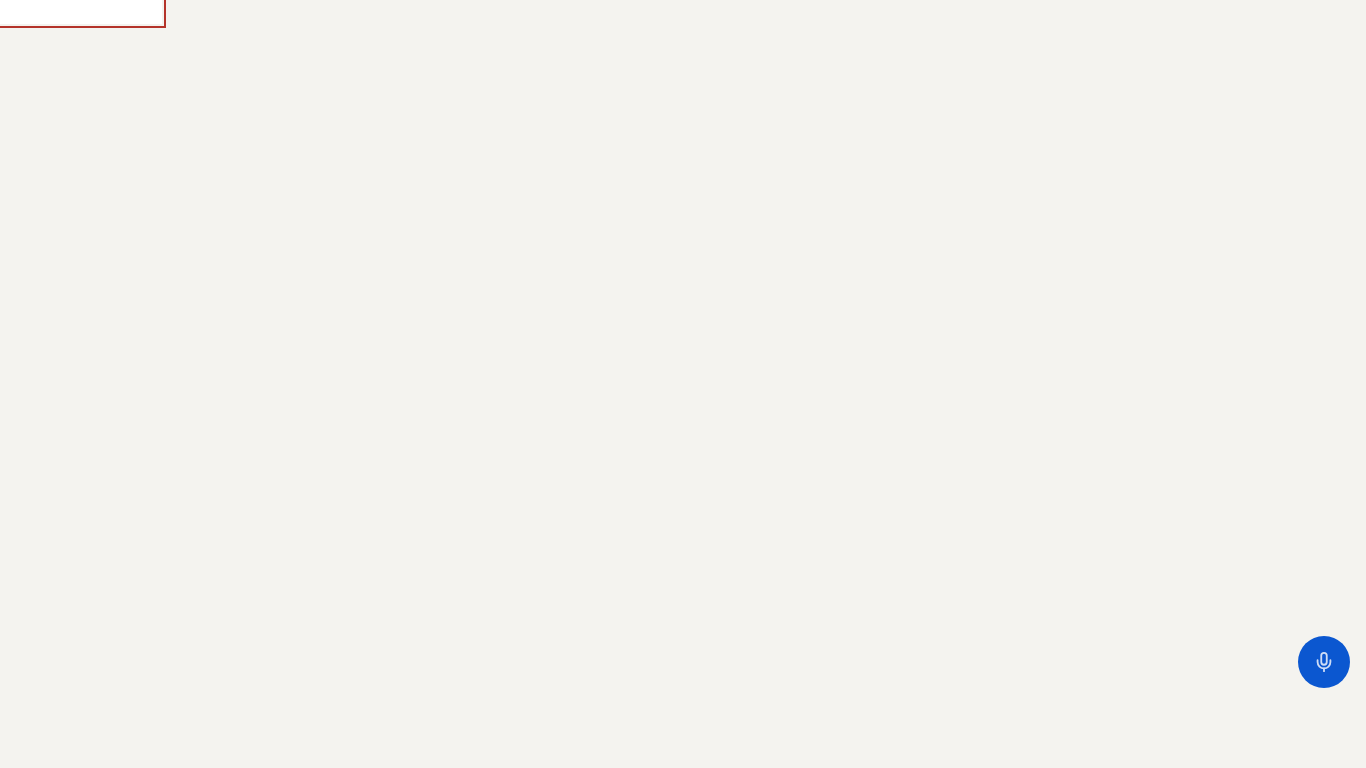
Test: 郵便番号の住所検索 › 確定すると「住所を調べています」を出し、待ちの間は主ボタンを置かない
The width and height of the screenshot is (1366, 768).
Click the button named "音声入力を開始": (1324, 662) left=1298, top=636, right=1350, bottom=688
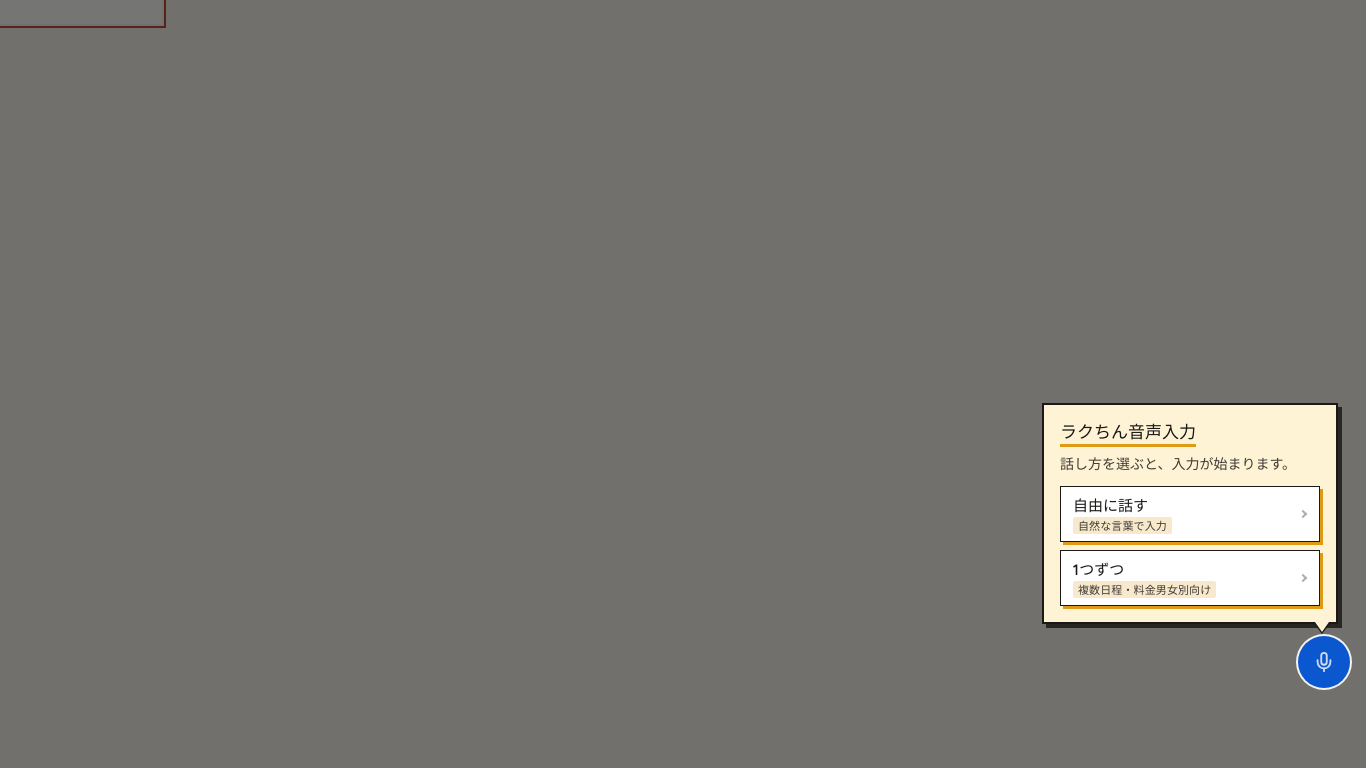
Click the button "1つずつ 複数日程・料金男女別向け": (1099, 569) left=1060, top=550, right=1320, bottom=606
Wait 1550 ms
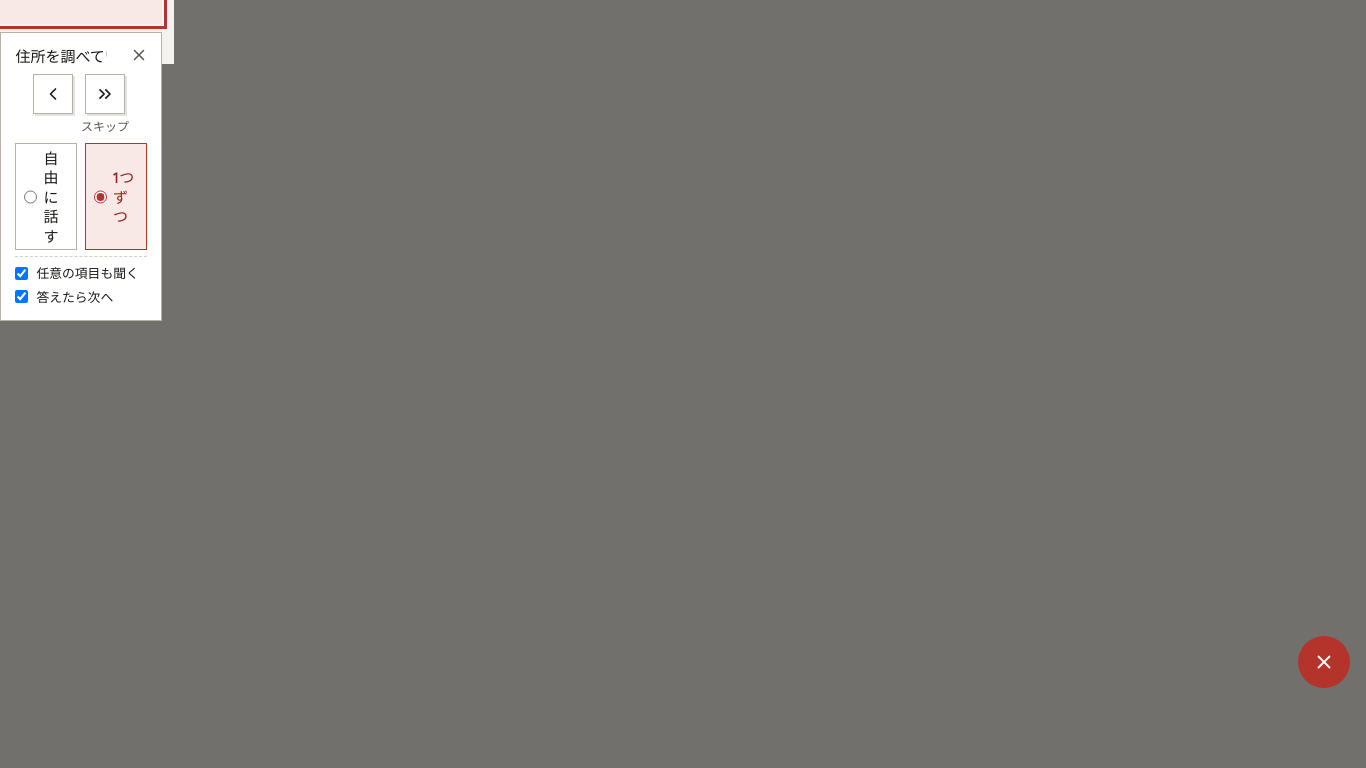
Expected: the text "住所を調べています" is shown, left=15, top=47, right=107, bottom=66
Expected: the button named "戻る" is enabled, left=33, top=74, right=73, bottom=114
Expected: the button named "スキップ" is enabled, left=85, top=74, right=125, bottom=114
